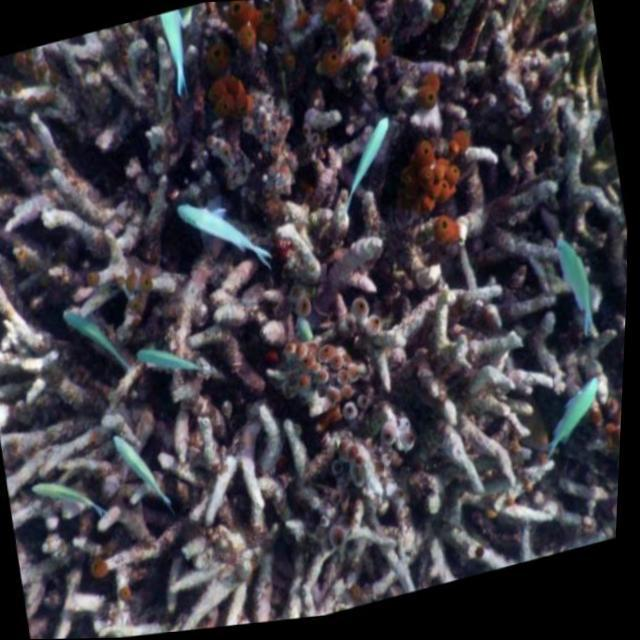Dead Coral: (0, 0, 537, 602)
